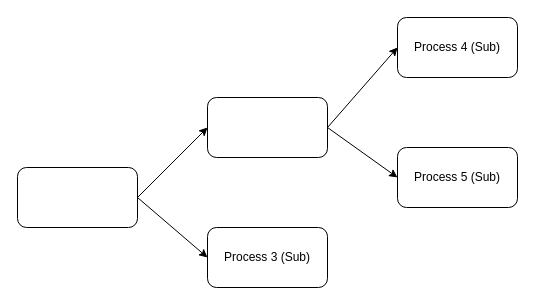
Image size: 535x305. Some labels were removed from this diagram. Each missing label, with the box of its shape:
Process 1 (Main): (16, 166, 138, 228)
Process 2 (Sub): (206, 96, 328, 158)
